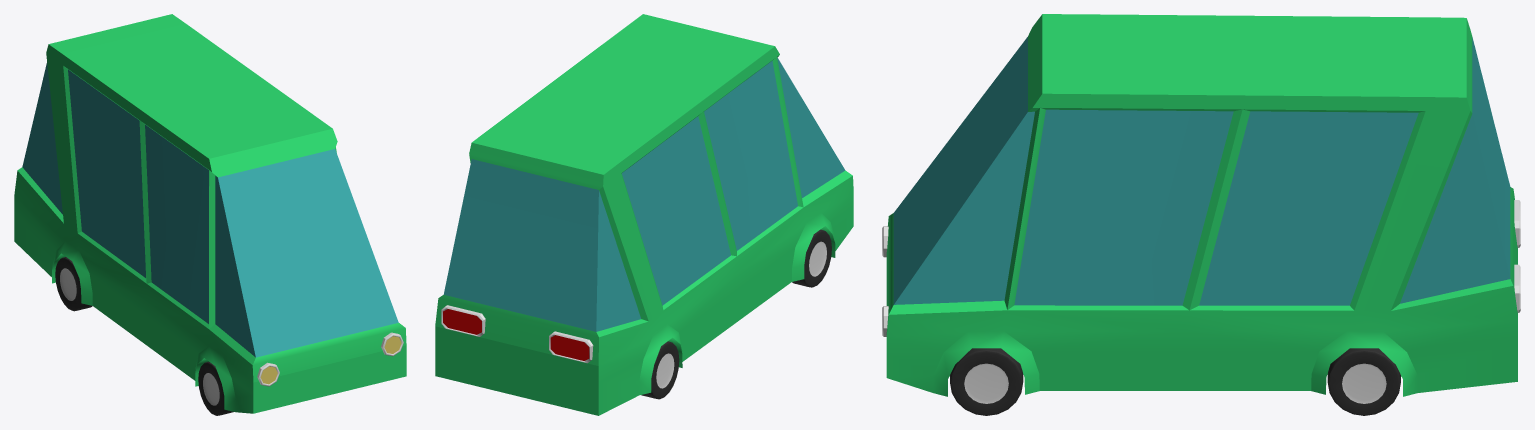
Rendered from MiniVam.fbx.
3 views of the same model, side by side, from view 1: azimuth 30°, elevation 25°; view 2: azimuth 150°, elevation 25°; view 3: azimuth 270°, elevation 25° (orthographic). The views are drawn at different scales.
Visible parts, largest first — view 1: pPlane2; view 2: pPlane2; view 3: pPlane2.
Boxes of the visible parts, box(x1,y1,x2,y2) form: pPlane2: box(14, 14, 406, 415); pPlane2: box(435, 14, 853, 415); pPlane2: box(882, 14, 1520, 415).
Bounding box in the file's own units: 8.43 × 11.37 × 21.15.
